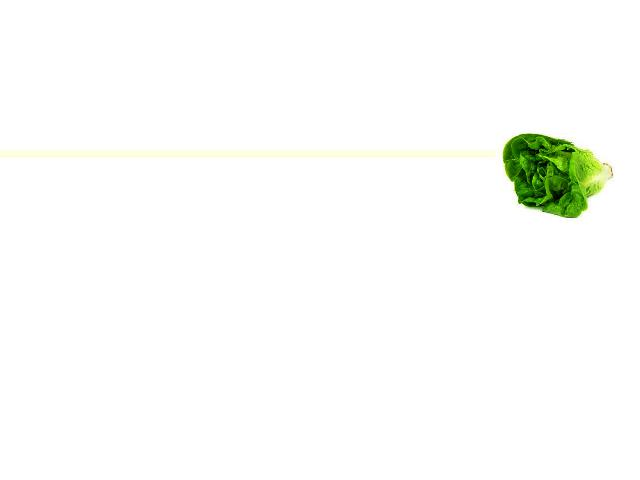lettuce: (502, 131, 616, 224)
